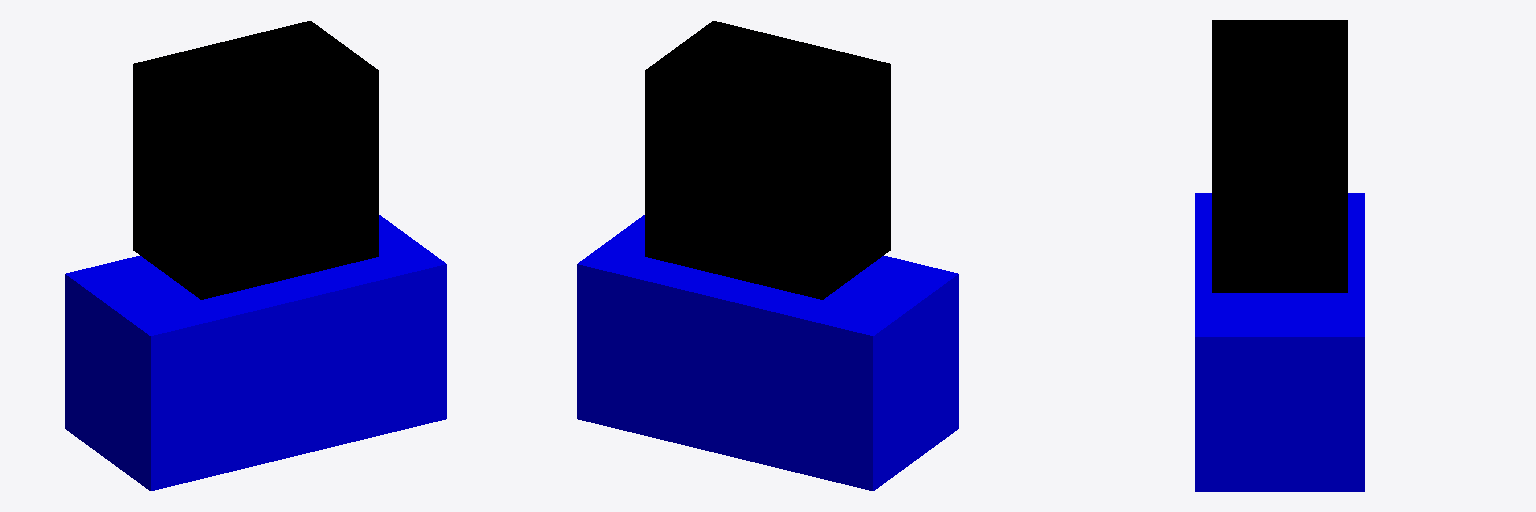
URDF robot description (box_robot):
<?xml version="1.0" ?>
<!-- =================================================================================== -->
<!-- |    This document was autogenerated by xacro from box.xacro                      | -->
<!-- |    EDITING THIS FILE BY HAND IS NOT RECOMMENDED                                 | -->
<!-- =================================================================================== -->
<robot name="box_robot">
  <!-- Box Link -->
  <link name="base_link">
    <visual>
      <geometry>
        <box size="0.5 0.25 0.25"/>
      </geometry>
      <material name="blue">
        <color rgba="0 0 1 1"/>
      </material>
    </visual>
    <inertial>
      <mass value="1.0"/>
      <origin xyz="0 0 0"/>
      <inertia ixx="0.01" ixy="0.0" ixz="0.0" iyy="0.01" iyz="0.0" izz="0.01"/>
    </inertial>
  </link>
  <link name="camera_link">
    <visual>
      <geometry>
        <box size="0.3 0.2 0.3"/>
      </geometry>
      <material name="black">
        <color rgba="0 0 0 1"/>
      </material>
    </visual>
    <inertial>
      <mass value="0.2"/>
      <inertia ixx="0.001" ixy="0" ixz="0" iyy="0.001" iyz="0" izz="0.001"/>
    </inertial>
  </link>
  <joint name="camera_joint" type="fixed">
    <parent link="base_link"/>
    <child link="camera_link"/>
    <origin rpy="0 0 0" xyz="0 0 0.3"/>
  </joint>
  <!-- Gazebo Camera Plugin -->
  <gazebo reference="camera_link">
    <sensor name="camera_sensor" type="depth">
      <update_rate>30.0</update_rate>
      <camera name="camera">
        <horizontal_fov>1.39616</horizontal_fov>
        <image>
          <width>640</width>
          <height>480</height>
          <format>R8G8B8</format>
        </image>
        <clip>
          <near>0.1</near>
          <far>20</far>
        </clip>
      </camera>
      <output>screen</output>
      <plugin filename="libgazebo_ros_openni_kinect.so" name="camera_controller">
        <alwaysOn>true</alwaysOn>
        <updateRate>30.0</updateRate>
        <cameraName>camera2</cameraName>
        <imageTopicName>rgb/image_raw</imageTopicName>
        <cameraInfoTopicName>rgb/camera_info</cameraInfoTopicName>
        <depthImageTopicName>depth/image_raw</depthImageTopicName>
        <depthCameraInfoTopicName>depth/camera_info</depthCameraInfoTopicName>
        <pointCloudTopicName>depth/points</pointCloudTopicName>
        <frameName>support_depth</frameName>
        <hackBaseline>0.07</hackBaseline>
        <distortionK1>0.0</distortionK1>
        <distortionK2>0.0</distortionK2>
        <distortionK3>0.0</distortionK3>
        <distortionT1>0.0</distortionT1>
        <distortionT2>0.0</distortionT2>
        <pointCloudCutoff>0.0000001</pointCloudCutoff>
        <pointCloudCutoffMax>17.0</pointCloudCutoffMax> <!--this is the clipping distance for the Depth image and Point Cloud-->
      </plugin>
    </sensor>
  </gazebo>
</robot>

--- Facts derived from the render (not from the file) ---
Views: 3 orthographic renders of the robot side by side, from view 1: azimuth 30°, elevation 25°; view 2: azimuth 150°, elevation 25°; view 3: azimuth 270°, elevation 25°.
Robot: box_robot — 2 links, 1 joints (1 fixed); root link base_link; default pose: all joints at 0.
Visible links, largest first — view 1: base_link, camera_link; view 2: base_link, camera_link; view 3: base_link, camera_link.
Boxes of the visible links, x1,y1,x2,y2 form: base_link: (65,215,446,490); camera_link: (133,21,378,299); base_link: (577,215,958,490); camera_link: (645,21,890,299); base_link: (1195,193,1364,491); camera_link: (1212,20,1347,292).
Size in the robot's own frame: 0.5 by 0.25 by 0.575 metres.
Geometry: primitives only (box / cylinder / sphere), no mesh files.